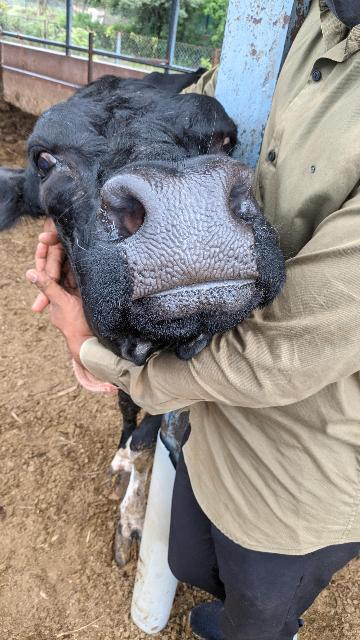Muzzle: (96, 172, 268, 306)
